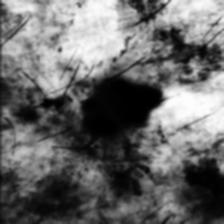Potentially Malignant Skin Tumors: (80, 78, 160, 138)
